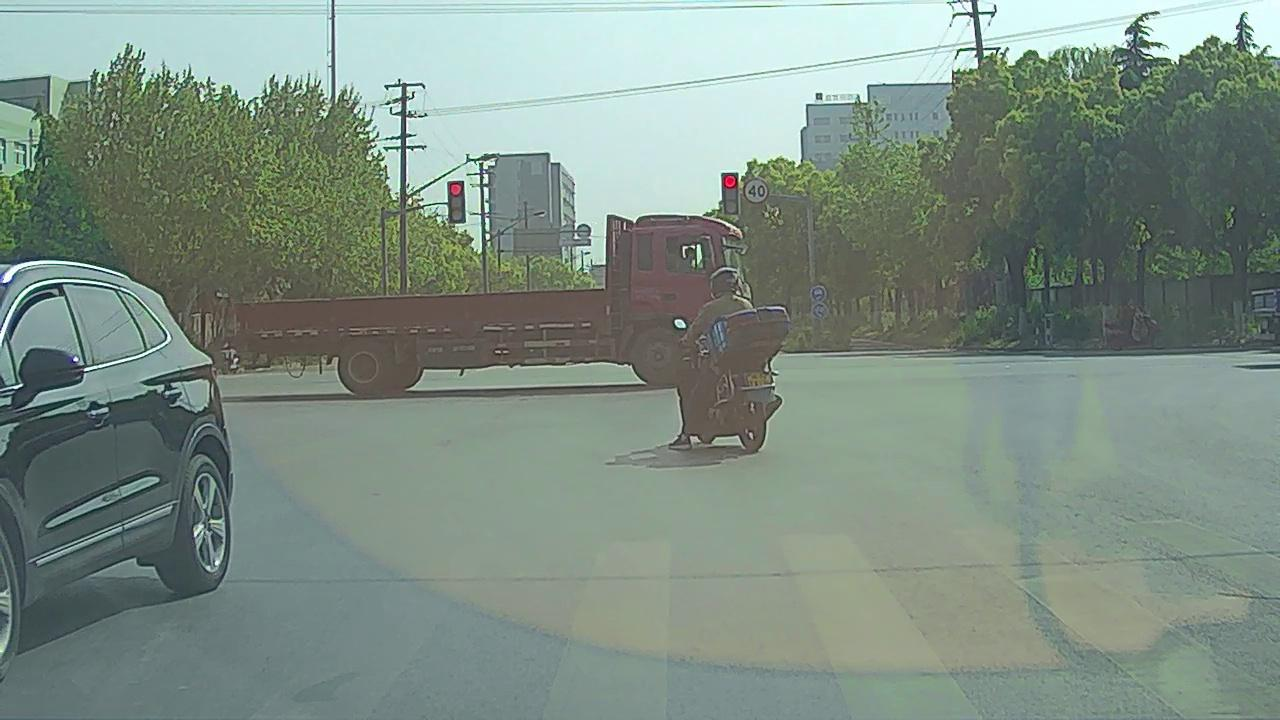traffic_light: (722, 173, 739, 214), (449, 182, 465, 222)
